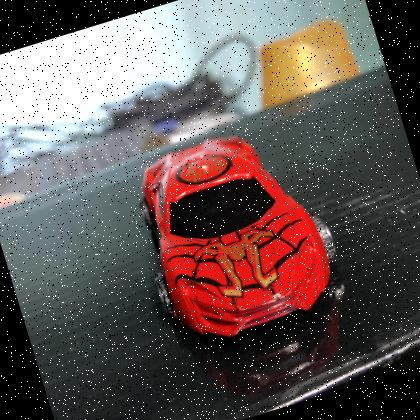Car: (139, 137, 335, 337)
